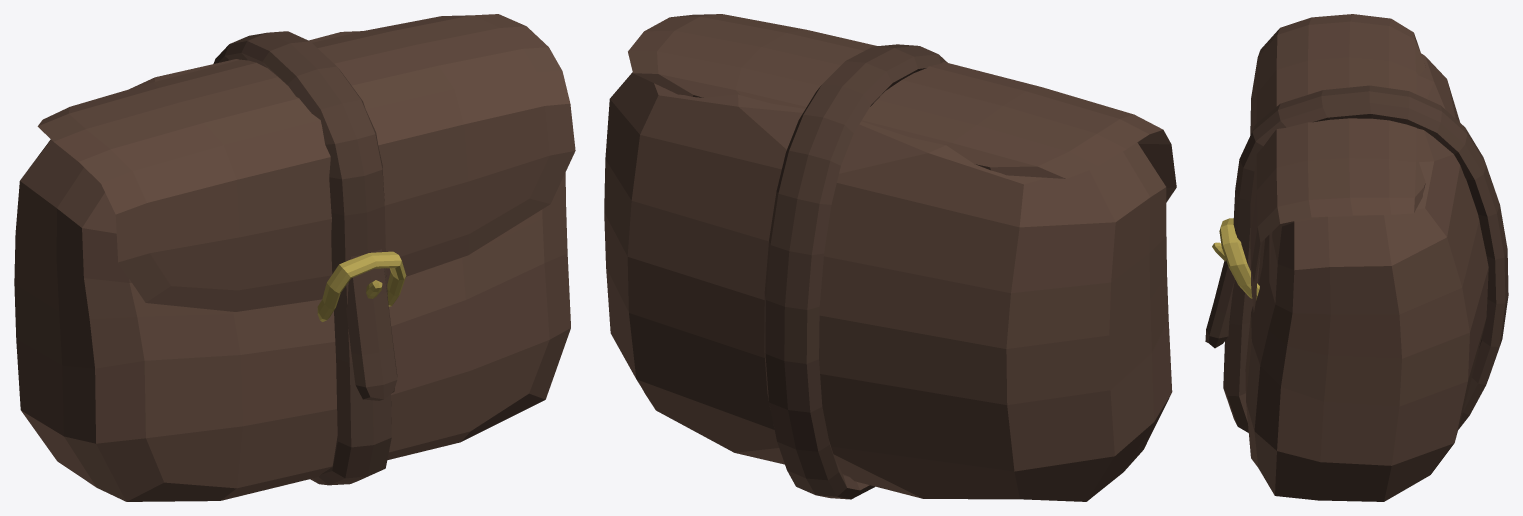
The model's file is vaska.glb.
3 renders of one model, left to right at view 1: azimuth 30°, elevation 25°; view 2: azimuth 150°, elevation 25°; view 3: azimuth 270°, elevation 25°, orthographic. The views are drawn at different scales.
Parts seen in each view (by area): view 1: Bag; view 2: Bag; view 3: Bag.
Boxes of the visible parts, left/top/right/bottom form: Bag: left=14, top=14, right=575, bottom=501; Bag: left=604, top=14, right=1176, bottom=501; Bag: left=1205, top=14, right=1508, bottom=501.
Bounding box in the file's own units: 0.8017 × 0.6274 × 0.4867.
